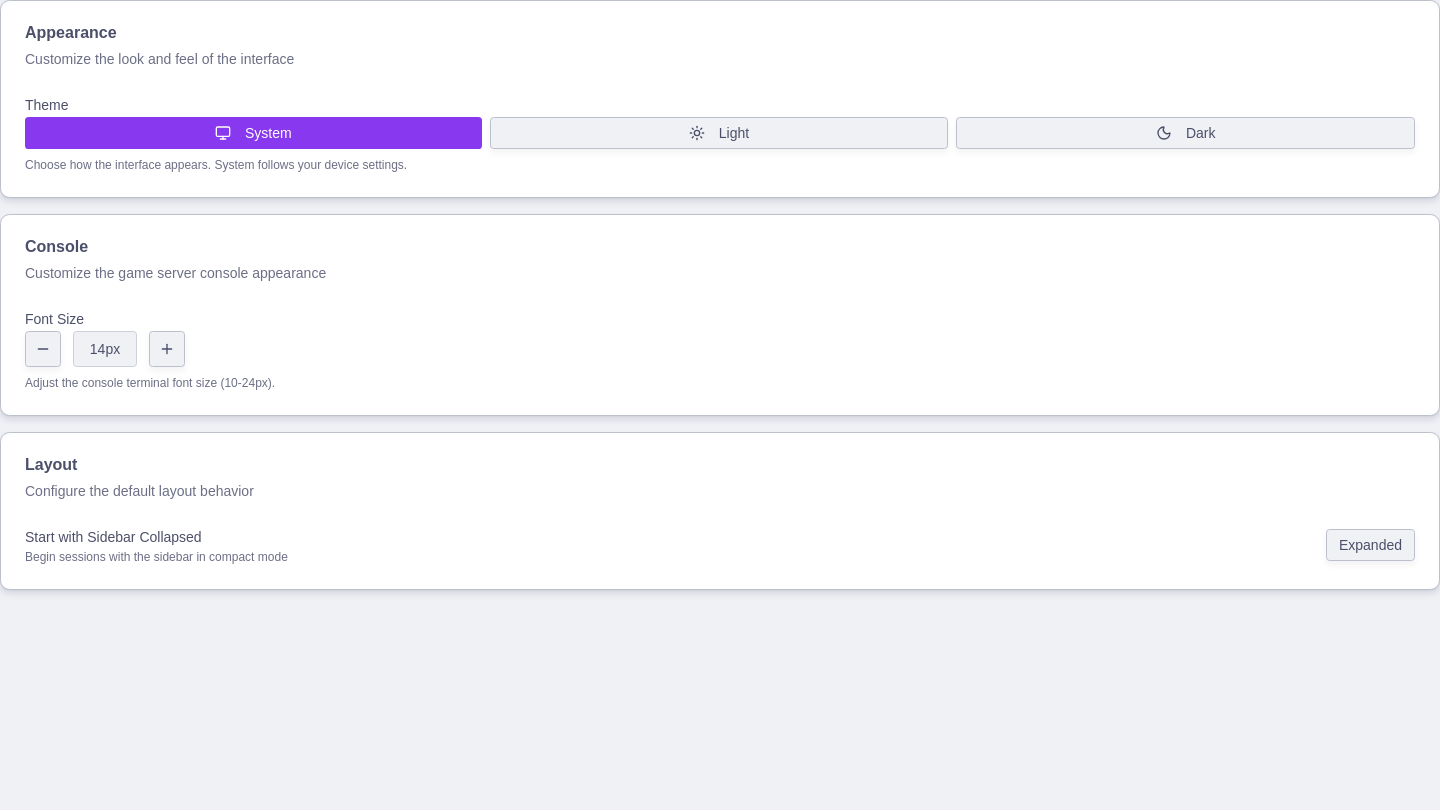
Test: UIPreferencesPanel › font size controls › decreases font size when clicking minus button
Click the button with test id "font-size-decrease" at (43, 349), box [25, 331, 61, 367]
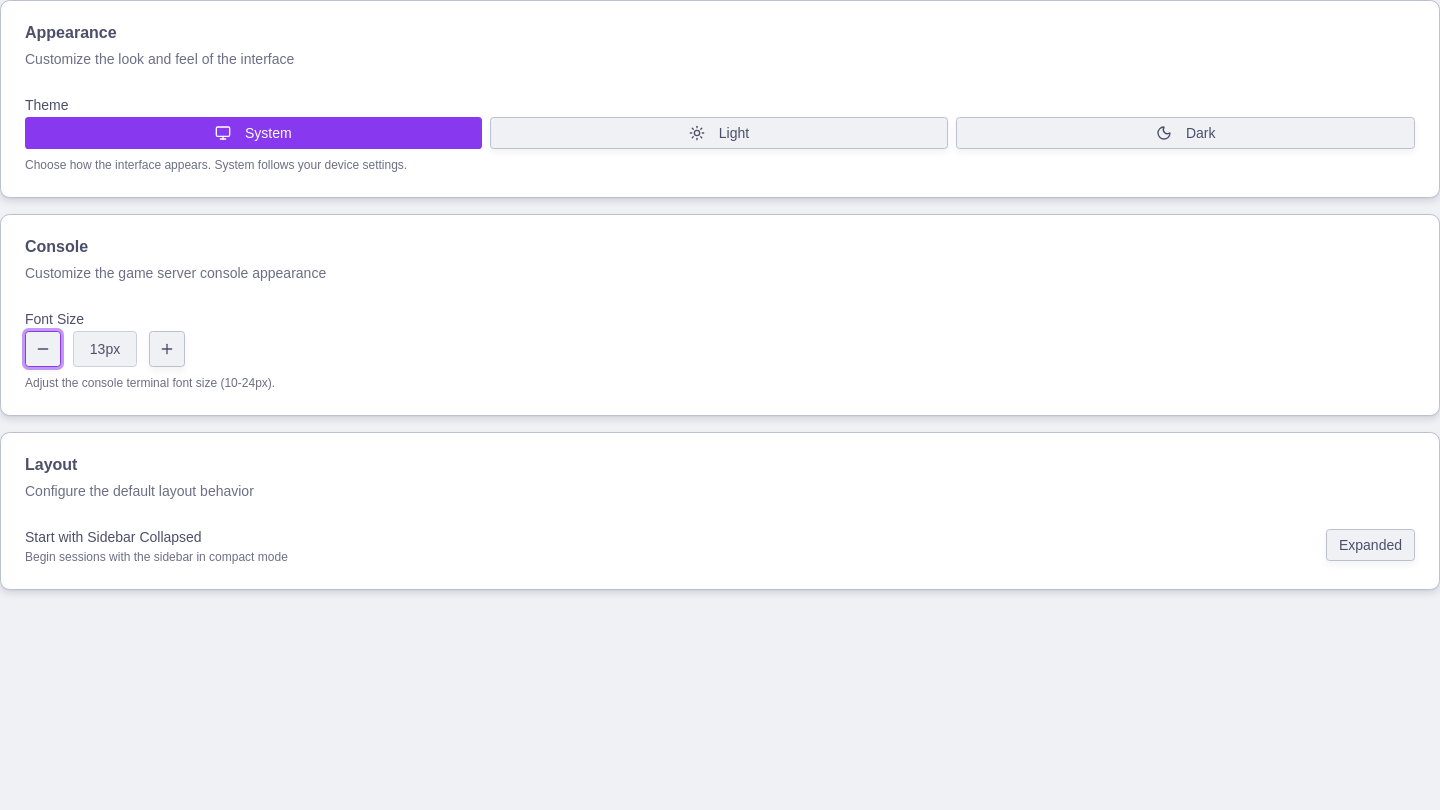
Expected: the text with test id "font-size-value" reads "13px", [73, 331, 137, 367]
